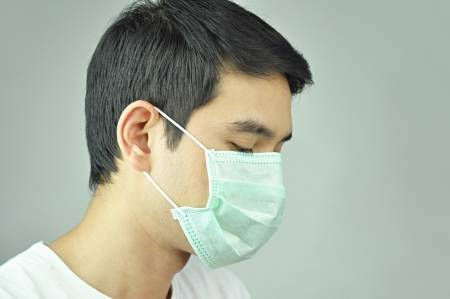with_mask: (79, 14, 314, 276)
